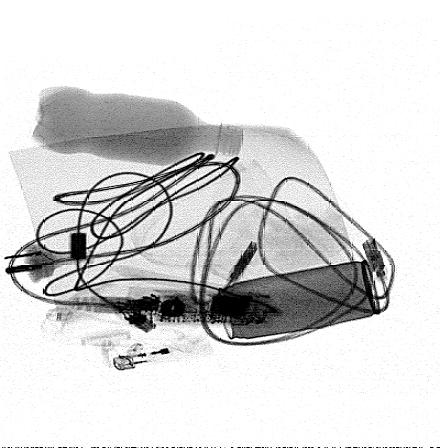Lighter: (112, 336, 213, 371)
